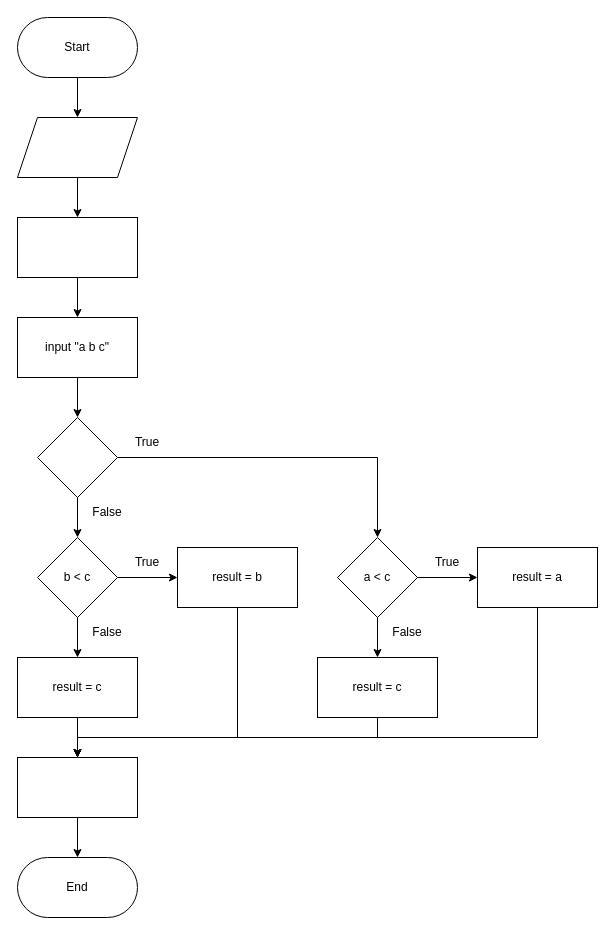
This 615x935 diagram has some shape labels left out. The centre of each missing label's shape, as x and y in pixels:
a < b: pixel 77 457
int a, b, c, result: pixel 77 147
print "Masukkan 3 angka:": pixel 77 247
print result: pixel 77 787
